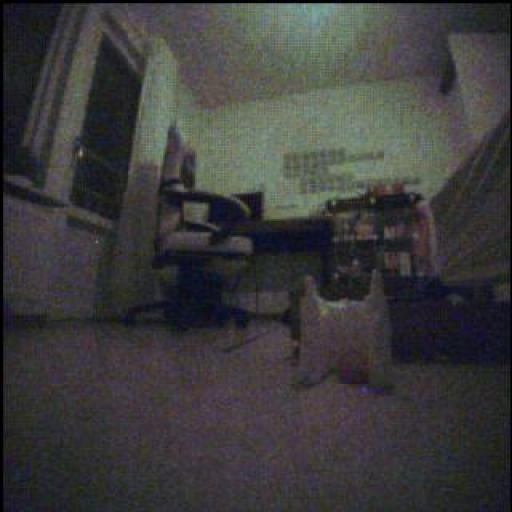basket: (337, 349, 369, 388)
